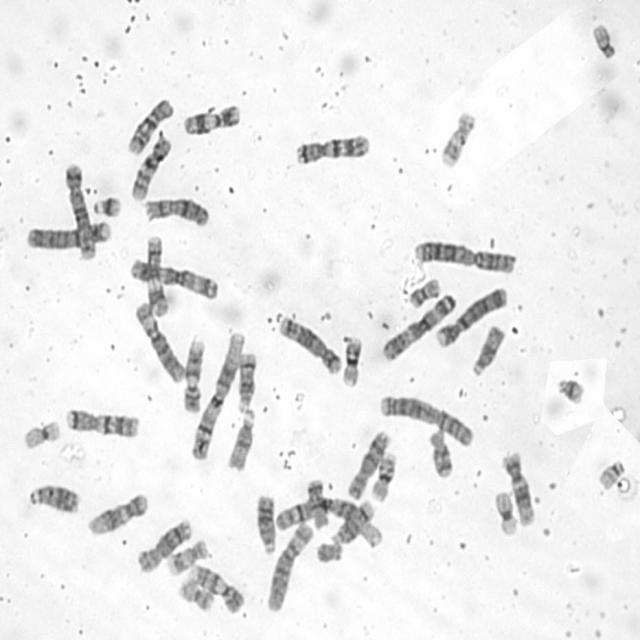A1: (188, 328, 247, 462), (272, 494, 383, 549)
A2: (376, 392, 476, 448), (410, 235, 518, 275)
A3: (379, 290, 459, 362), (126, 255, 221, 301)
B4: (432, 284, 508, 349), (25, 217, 112, 250)
B5: (277, 312, 342, 375), (61, 160, 96, 262)
C10: (128, 132, 174, 203), (124, 95, 175, 157)
C11: (142, 233, 170, 318), (180, 99, 242, 137)
C12: (84, 490, 150, 536), (499, 447, 536, 528)
C6: (264, 519, 314, 613), (133, 297, 186, 385)
C7: (62, 405, 141, 439), (292, 132, 370, 166)
C8: (344, 426, 392, 501), (134, 514, 193, 574)
C9: (188, 561, 245, 615), (180, 334, 207, 414)
D13: (26, 480, 81, 516), (254, 490, 278, 555)
D14: (329, 496, 378, 546), (234, 350, 258, 412)
D15: (468, 322, 508, 378), (225, 406, 258, 472)
E16: (368, 448, 399, 503), (339, 332, 364, 389)
E17: (437, 107, 478, 170), (165, 535, 211, 578)
E18: (427, 426, 455, 480), (304, 476, 330, 530)
F19: (20, 416, 61, 451), (492, 487, 520, 538)
F20: (176, 576, 216, 613), (406, 275, 442, 310)
G21: (554, 373, 586, 405), (90, 193, 122, 219)
G22: (595, 456, 627, 492), (590, 20, 617, 61)
X: (141, 194, 211, 228)
Y: (314, 538, 344, 564)
